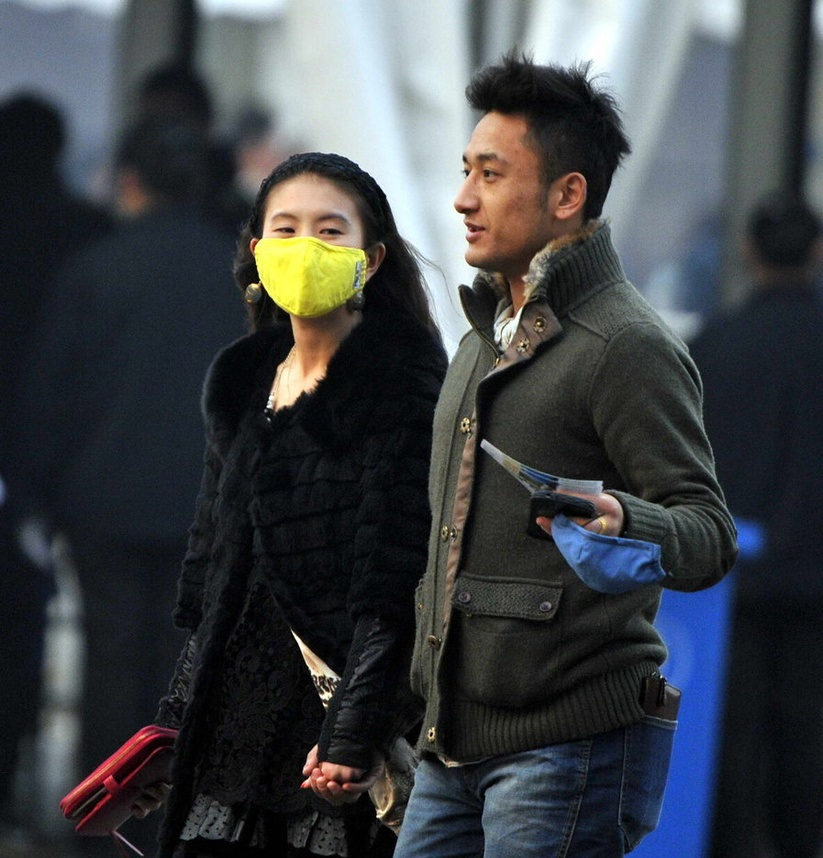face: (454, 110, 551, 267)
face_mask: (257, 175, 363, 314)
